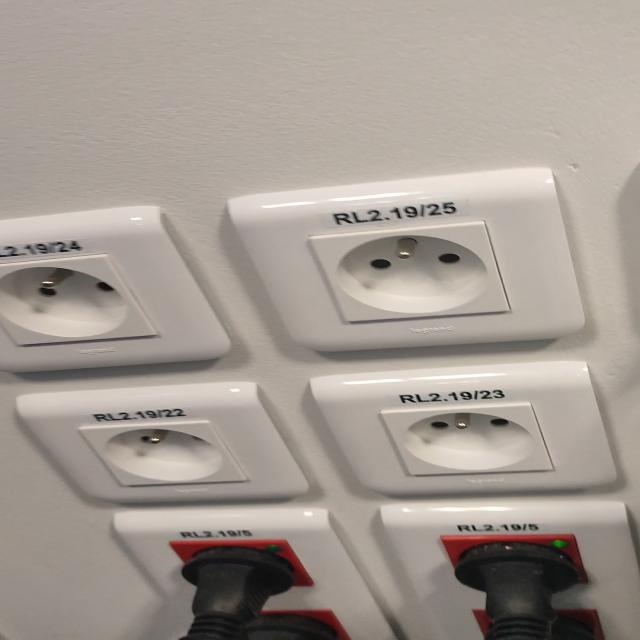house plug: (308, 224, 511, 322), (0, 255, 157, 345), (384, 403, 551, 477), (80, 422, 249, 486)
